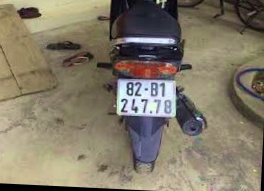Bien-so: (124, 83, 185, 124)
